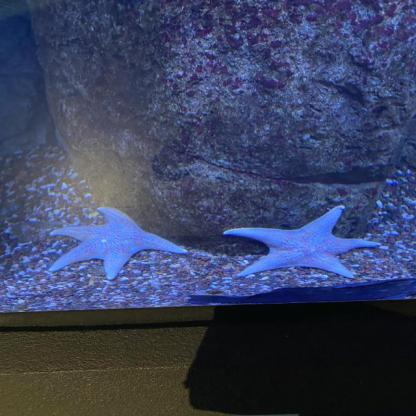starfish: (219, 206, 384, 280), (47, 204, 188, 280)
